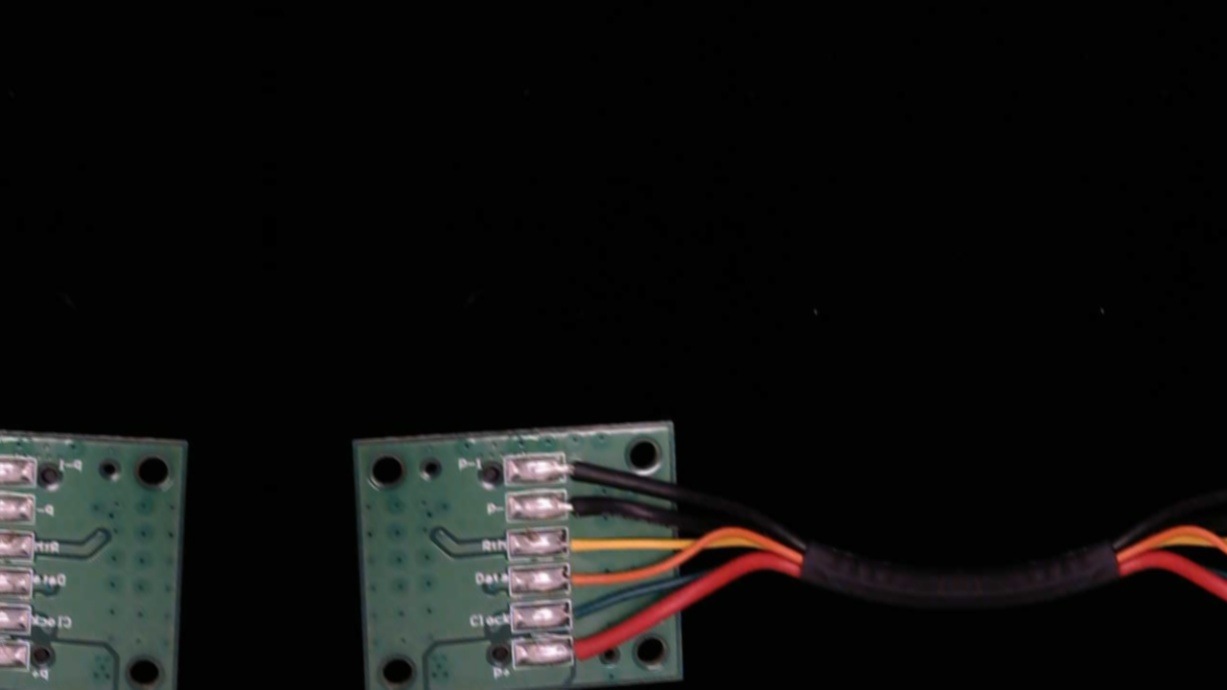Black: (553, 490, 616, 520)
Black1: (551, 452, 611, 483)
Green: (555, 598, 609, 630)
Orange: (556, 565, 600, 593)
Red: (560, 633, 616, 664)
Yellow: (553, 526, 611, 561)
